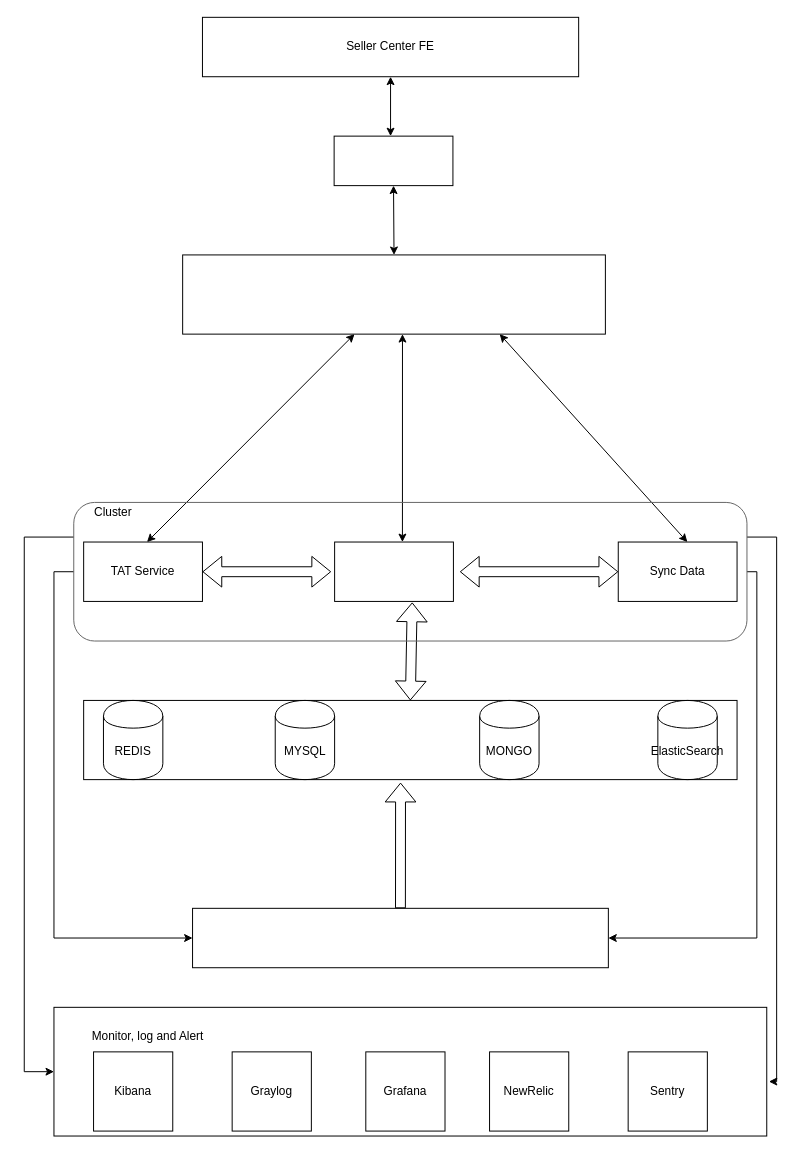
This 802x1153 diagram has some shape labels left out. Each missing label, with the centre of its shape:
"Aggregate Service - Using Kafka message Queue" belongs at point (400, 937).
"KONG" belongs at point (393, 294).
"NODE Service" belongs at point (393, 160).
"Order Service" belongs at point (393, 571).
